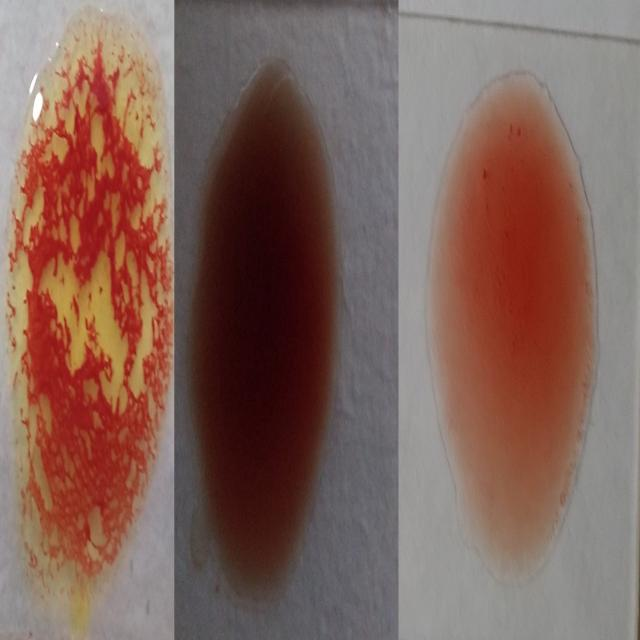B: (9, 8, 170, 602)
